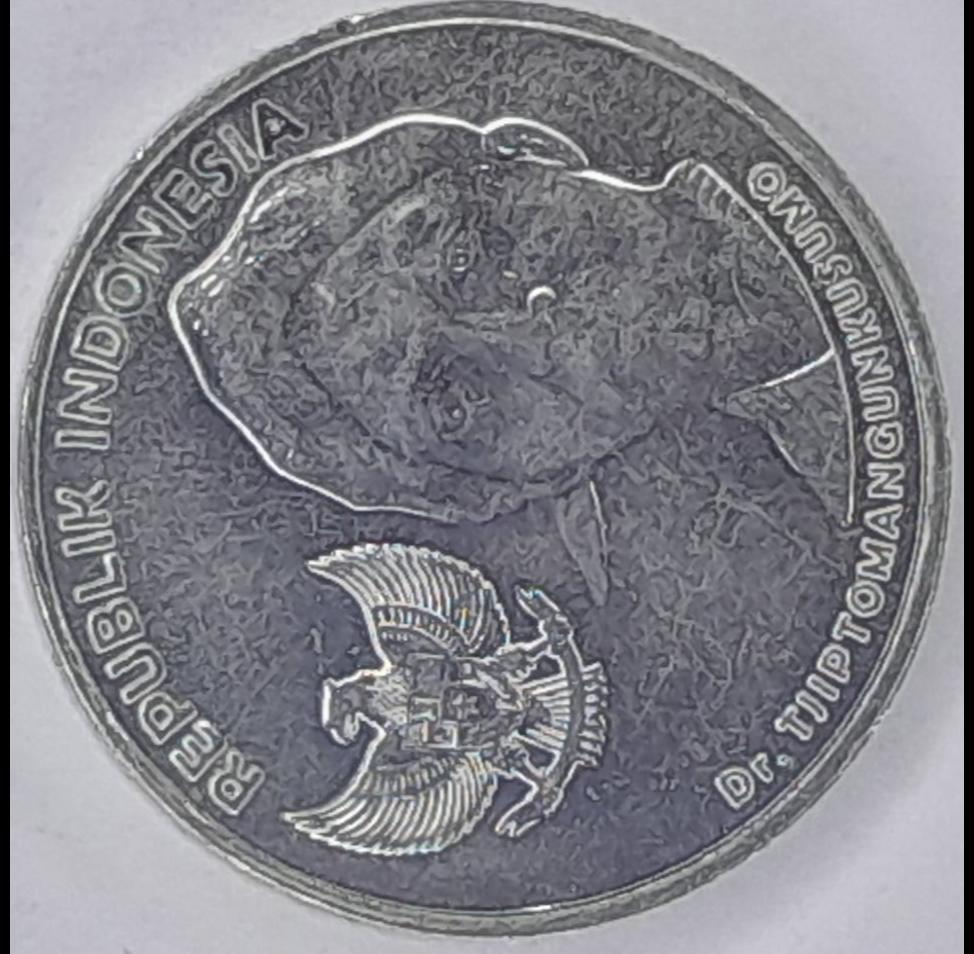coin_200_e2016: (0, 17, 974, 954)
